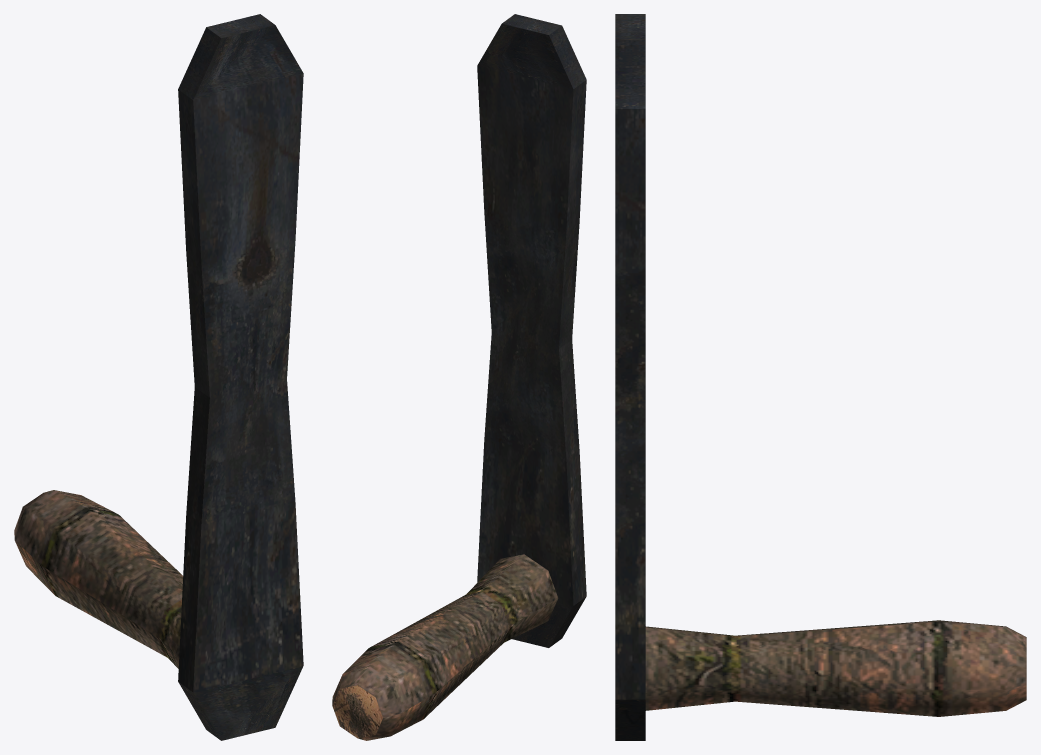
Rendered from truck_crankshafthandle.DAE.
The picture shows the model from 3 angles, left to right: view 1: azimuth 30°, elevation 25°; view 2: azimuth 150°, elevation 25°; view 3: azimuth 270°, elevation 25°; orthographic projection. The views are drawn at different scales.
Visible parts, largest first — view 1: Object095, Object094; view 2: Object095, Object094; view 3: Object094, Object095.
Part boxes in pixels (x1,y1,x2,y2): Object095: (178,14,303,740); Object094: (14,490,183,668); Object095: (477,14,586,647); Object094: (332,554,558,740); Object094: (645,620,1026,716); Object095: (615,14,645,740).
Size of the model in its own units: 0.078 by 0.474 by 0.2521.
